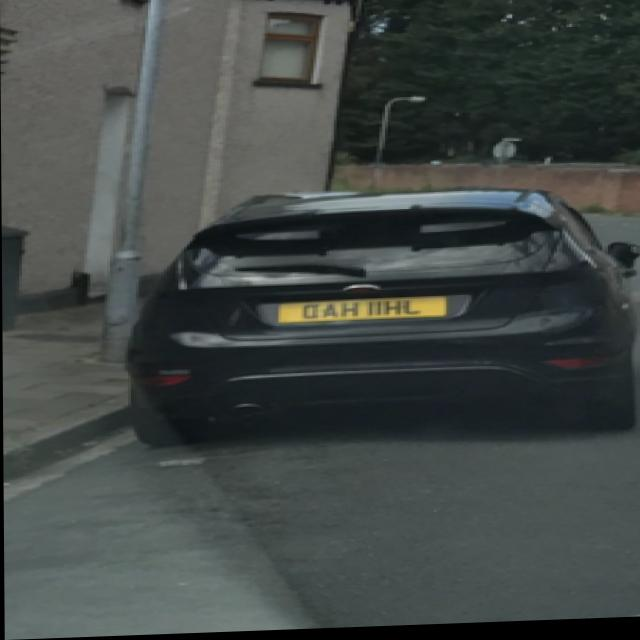licence: (280, 297, 448, 325)
